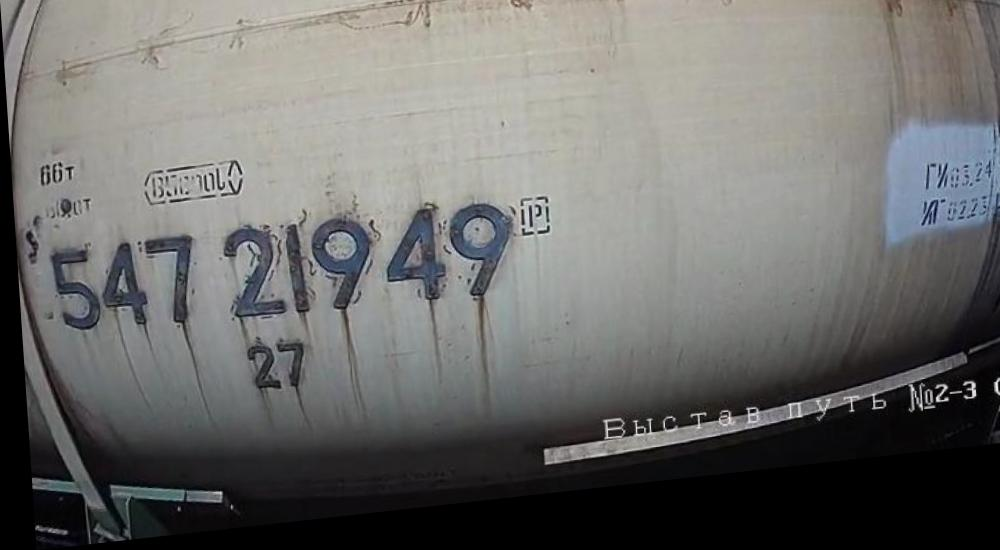Wagon-number: (42, 204, 517, 352)
